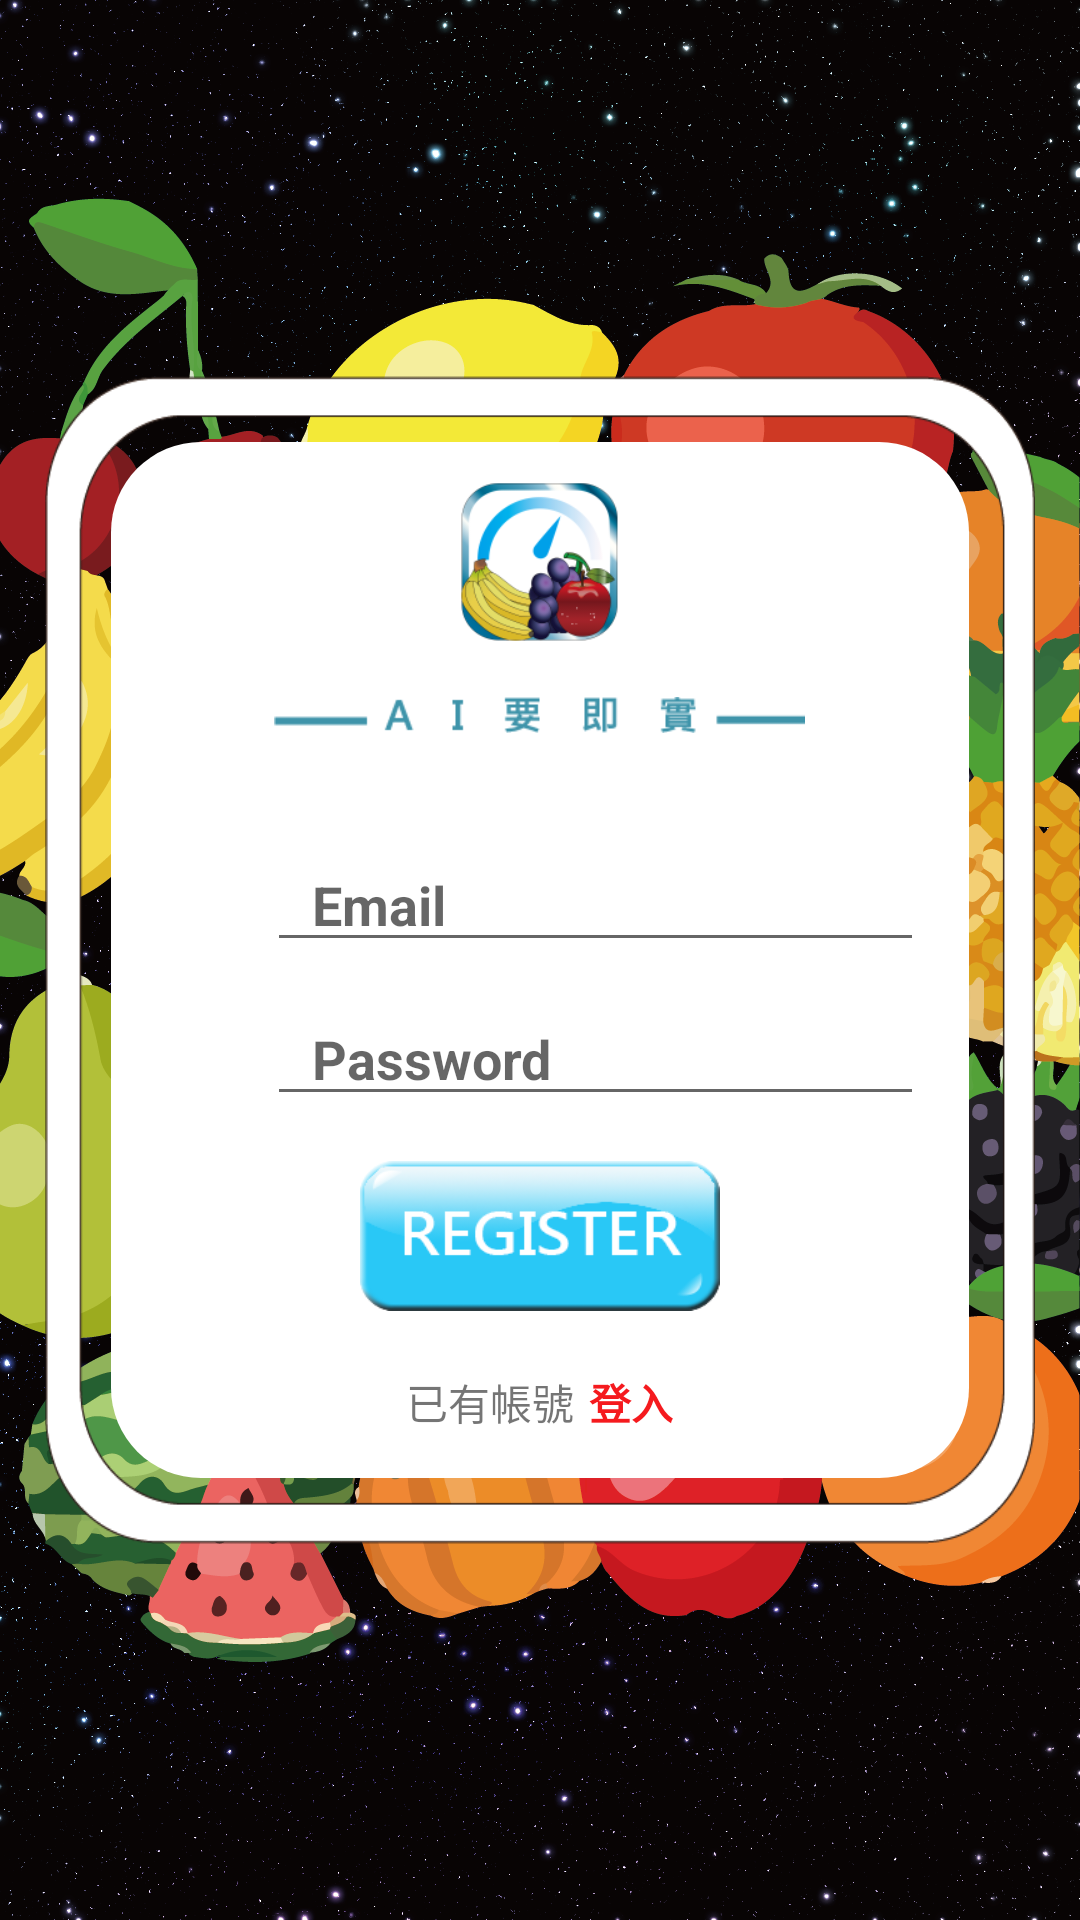

Icons on this 1080w x 1920h Android screen, each with the point to tap as (x,y):
fruiticon: (539,562)
